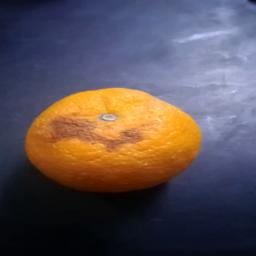Orange Semifresh: (19, 84, 204, 195)
